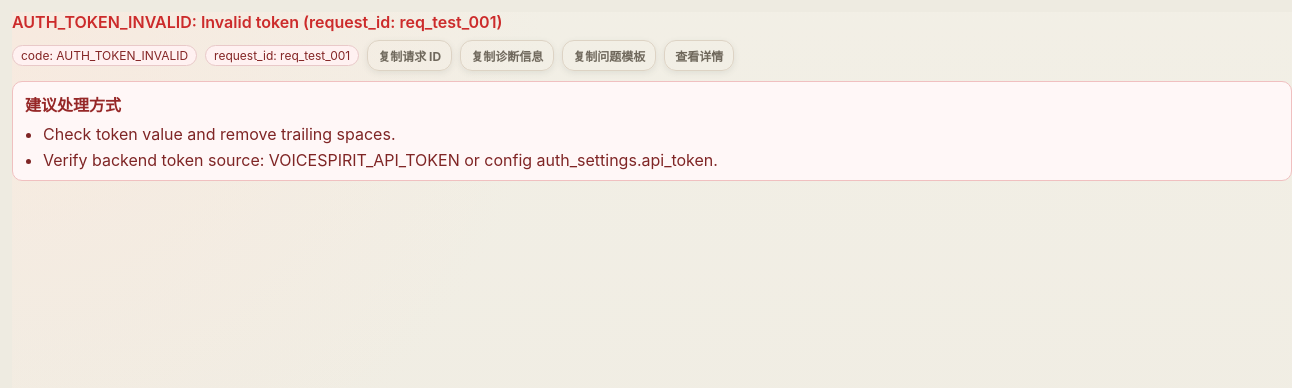
ErrorNotice › toggles diagnostic details panel
Click the button "查看详情" at (699, 56), box [664, 40, 734, 71]
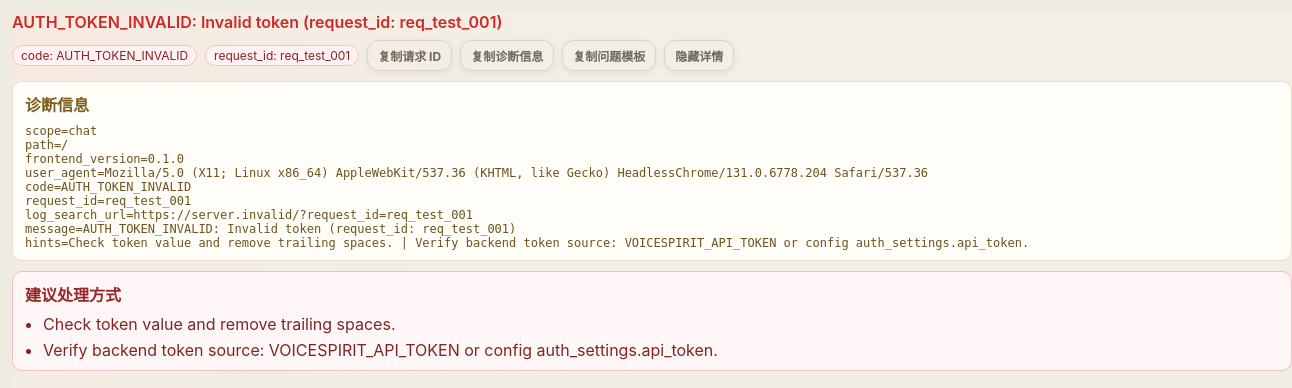
Now the text "诊断信息" is shown, box [25, 95, 89, 115]
Now the text "scope=chat" is shown, box [25, 124, 1029, 250]
Now the button "隐藏详情" is shown
Click the button "隐藏详情" at (699, 56), box [664, 40, 734, 71]
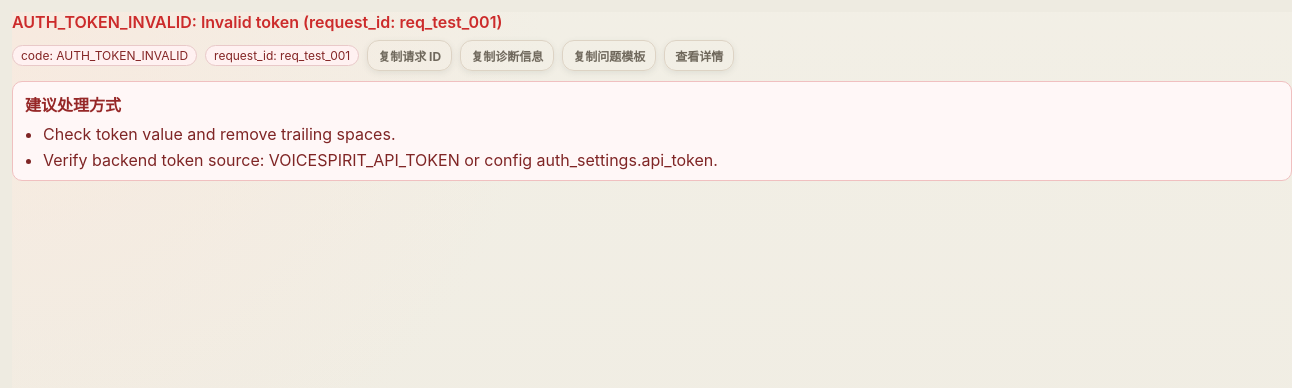
Now the button "查看详情" is shown, box [664, 40, 734, 71]
